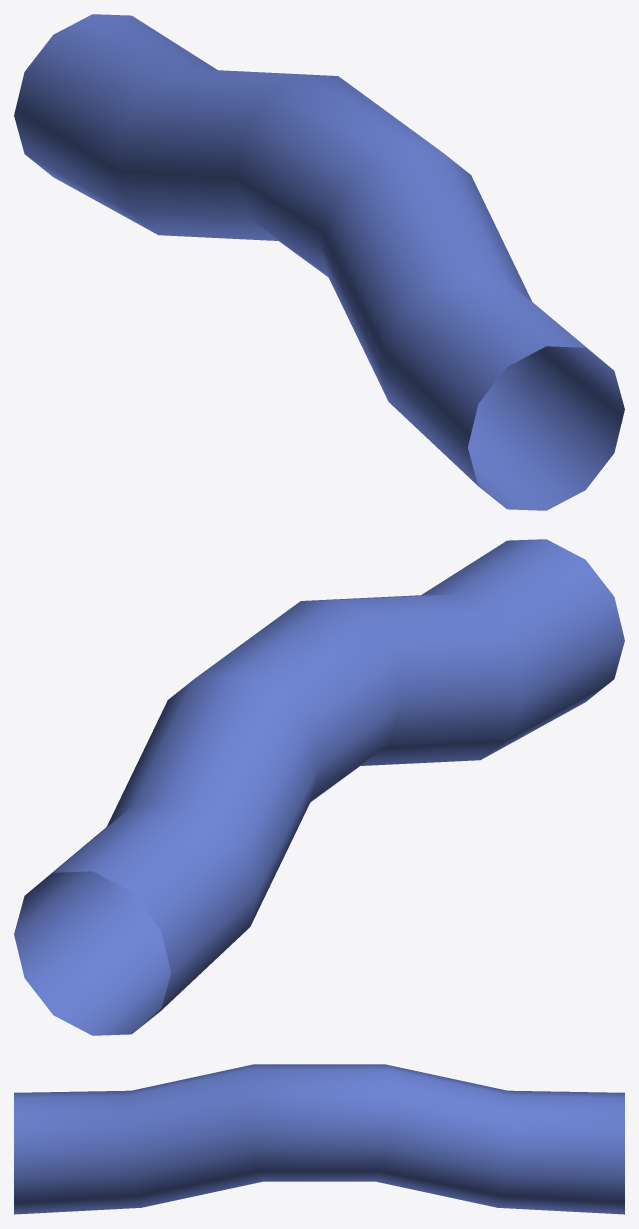
The model's file is pipe-curved2.fbx.
3 views of the same model, one above another, from view 1: azimuth 30°, elevation 25°; view 2: azimuth 150°, elevation 25°; view 3: azimuth 270°, elevation 25° (orthographic). The views are drawn at different scales.
Visible parts, largest first — view 1: Cylinder_013; view 2: Cylinder_013; view 3: Cylinder_013.
Boxes of the visible parts, x1,y1,x2,y2 form: Cylinder_013: (14,14,624,510); Cylinder_013: (14,539,624,1035); Cylinder_013: (14,1064,624,1214).
Bounding box in the file's own units: 0.4801 × 0.5427 × 2.
